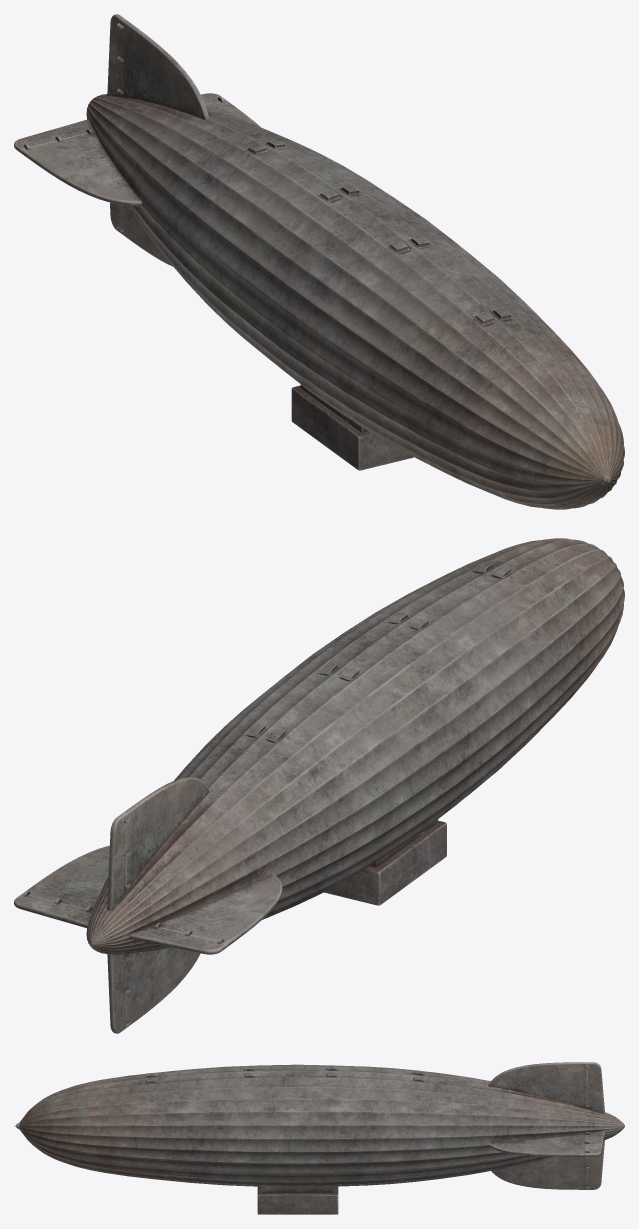
The model's file is SM_ZeppelinMini_01.fbx.
3 views of the same model, one above another, from view 1: azimuth 30°, elevation 25°; view 2: azimuth 150°, elevation 25°; view 3: azimuth 270°, elevation 25° (orthographic). The views are drawn at different scales.
Visible parts, largest first — view 1: SM_ZeppelinMini_01_LOD0; view 2: SM_ZeppelinMini_01_LOD0; view 3: SM_ZeppelinMini_01_LOD0.
Part boxes in pixels (x1=…): SM_ZeppelinMini_01_LOD0: x1=14, y1=14, x2=624, y2=509; SM_ZeppelinMini_01_LOD0: x1=14, y1=538, x2=624, y2=1033; SM_ZeppelinMini_01_LOD0: x1=14, y1=1062, x2=624, y2=1214.
Bounding box in the file's own units: 20.87 × 90.98 × 22.9.
1 material, 1 textured.
